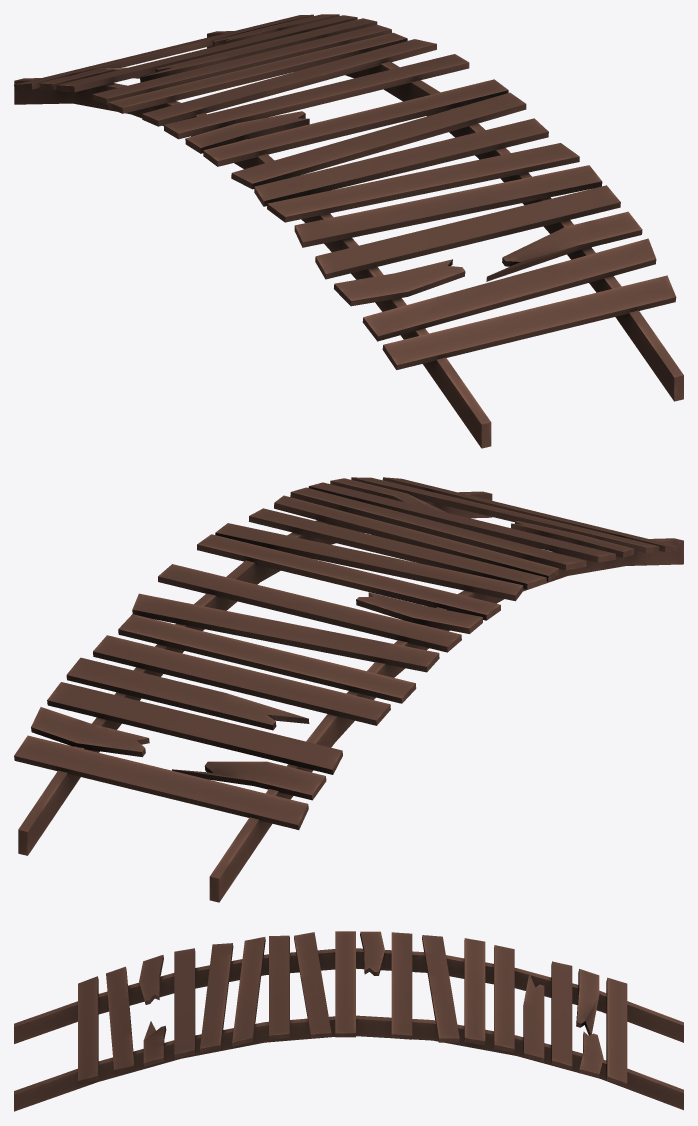
The model's file is Bridge_2.fbx.
3 views of the same model, one above another, from view 1: azimuth 30°, elevation 25°; view 2: azimuth 150°, elevation 25°; view 3: azimuth 270°, elevation 25° (orthographic). The views are drawn at different scales.
Parts seen in each view (by area): view 1: Bridge_2; view 2: Bridge_2; view 3: Bridge_2.
Boxes of the visible parts, x1,y1,x2,y2 form: Bridge_2: [14, 14, 683, 448]; Bridge_2: [14, 477, 683, 902]; Bridge_2: [14, 931, 683, 1111].
Bounding box in the file's own units: 64.49 × 27.66 × 176.
